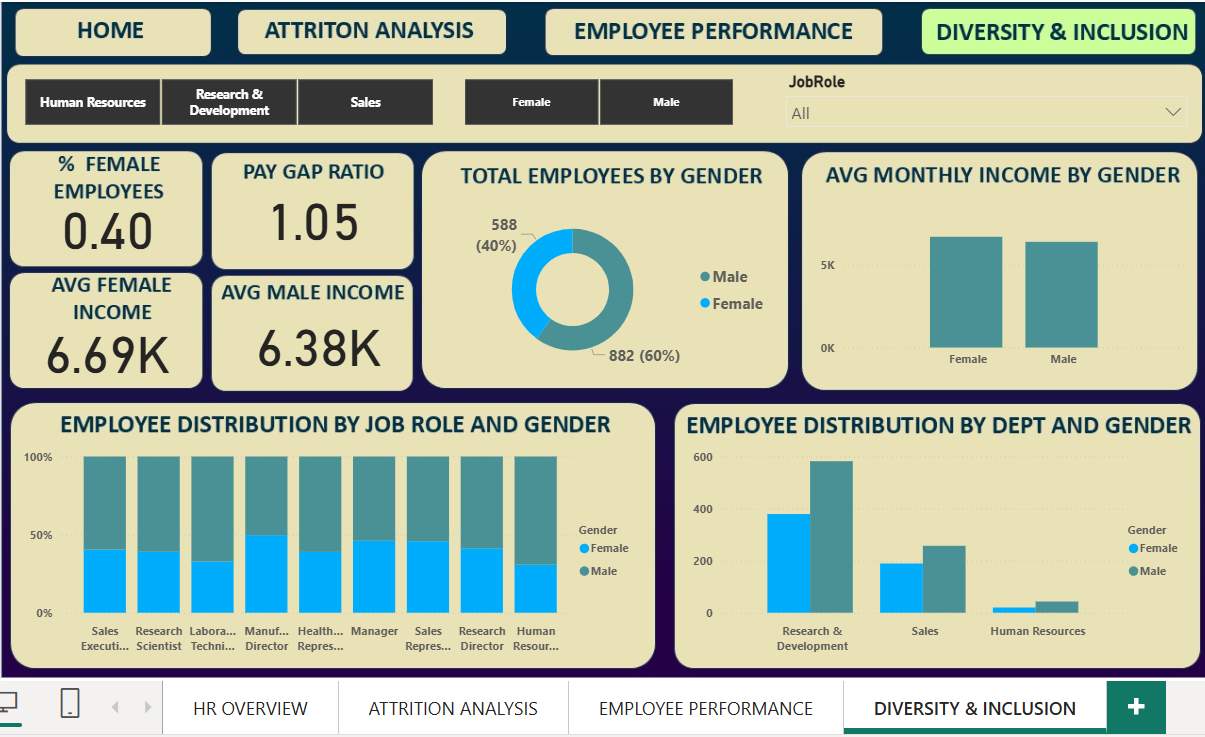

What the dashboard file says about the page in this screenshot:
{"tool":"powerbi","page":{"name":"DIVERSITY & INCLUSION","canvas":[1280,720],"ordinal":3},"visuals":[{"type":"donutChart","fields":{"Category":["Employee Data.Gender"],"Y":["CountNonNull(Employee Data.EmployeeNumber)"]},"box":[466,213.1,356.3,182.9],"z":0},{"type":"columnChart","fields":{"Category":["Employee Data.Gender"],"Y":["Avg(Employee Data.MonthlyIncome)"]},"box":[863.7,211.6,399.2,184.5],"z":1000},{"type":"hundredPercentStackedColumnChart","fields":{"Category":["Employee Data.JobRole"],"Series":["Employee Data.Gender"],"Y":["CountNonNull(Employee Data.EmployeeNumber)"]},"box":[17.5,467.6,663.3,230.6],"z":2000},{"type":"card","fields":{"Values":["Measure Table.Female % of Workforce"]},"box":[25.4,181.3,175,108.2],"z":3000},{"type":"card","fields":{"Values":["Measure Table.Pay Gap Ratio"]},"box":[222.7,162.2,216.3,127.2],"z":4000},{"type":"card","fields":{"Values":["Measure Table.Avg Female Income"]},"box":[17.5,321.3,189.3,90.7],"z":5000},{"type":"card","fields":{"Values":["Measure Table.Avg Male Income"]},"box":[233.8,307,205.2,105],"z":6000},{"type":"clusteredColumnChart","fields":{"Series":["Employee Data.Gender"],"Category":["Employee Data.Department"],"Y":["CountNonNull(Employee Data.EmployeeNumber)"]},"box":[728.5,467.6,534.4,230.6],"z":7000},{"type":"slicer","fields":{"Values":["Employee Data.Gender"]},"box":[466,74.8,334,62],"z":8000},{"type":"slicer","fields":{"Values":["Employee Data.Department"]},"box":[0,74.8,482,62],"z":9000},{"type":"slicer","fields":{"Values":["Employee Data.JobRole"]},"box":[822.3,68.4,445.4,74.8],"z":10000},{"type":"actionButton","box":[0,0,222.7,68.4],"z":11000},{"type":"actionButton","box":[241.8,6.4,322.9,54.1],"z":12000},{"type":"actionButton","box":[564.7,6.4,386.5,62],"z":13000}]}

Visuals, with their boxes on the page's 1280x720 design canvas (x1, y1, x2, y2). These are canvas units, not pixel positions in the 1205x737 screenshot, which may show the page scaled, cropped or inside an application window:
donutChart - Employee Data.Gender x CountNonNull(Employee Data.EmployeeNumber): (466,213,822,396)
columnChart - Employee Data.Gender x Avg(Employee Data.MonthlyIncome): (864,212,1263,396)
hundredPercentStackedColumnChart - Employee Data.JobRole x Employee Data.Gender: (18,468,681,698)
card - Measure Table.Female % of Workforce: (25,181,200,290)
card - Measure Table.Pay Gap Ratio: (223,162,439,289)
card - Measure Table.Avg Female Income: (18,321,207,412)
card - Measure Table.Avg Male Income: (234,307,439,412)
clusteredColumnChart - Employee Data.Gender x Employee Data.Department: (728,468,1263,698)
slicer - Employee Data.Gender: (466,75,800,137)
slicer - Employee Data.Department: (0,75,482,137)
slicer - Employee Data.JobRole: (822,68,1268,143)
actionButton: (0,0,223,68)
actionButton: (242,6,565,60)
actionButton: (565,6,951,68)
